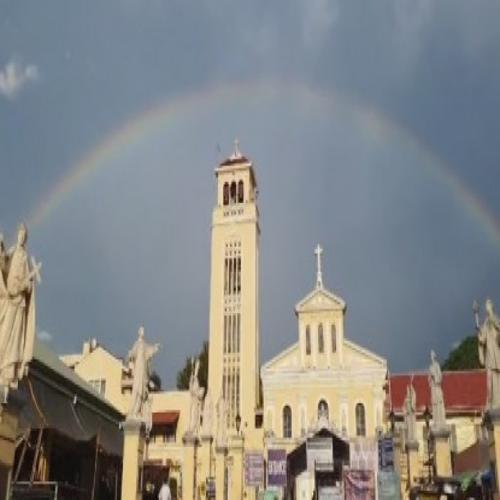Manaoag Church: (192, 140, 389, 500)
